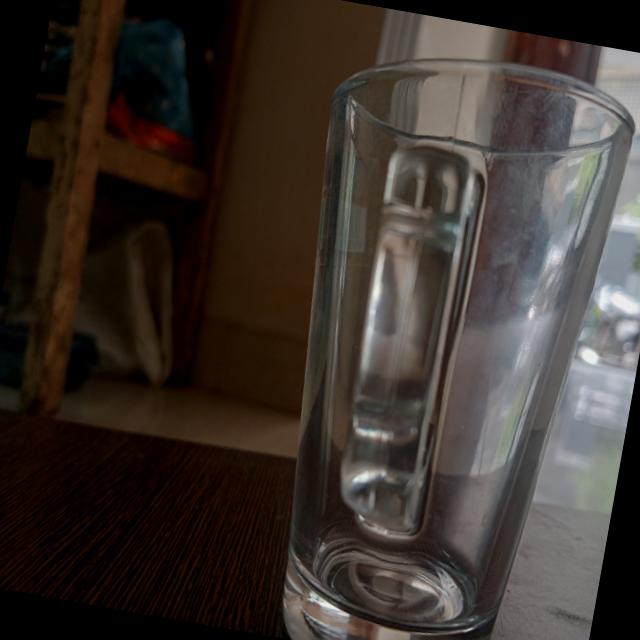glass-VX4N: (236, 31, 640, 640)
